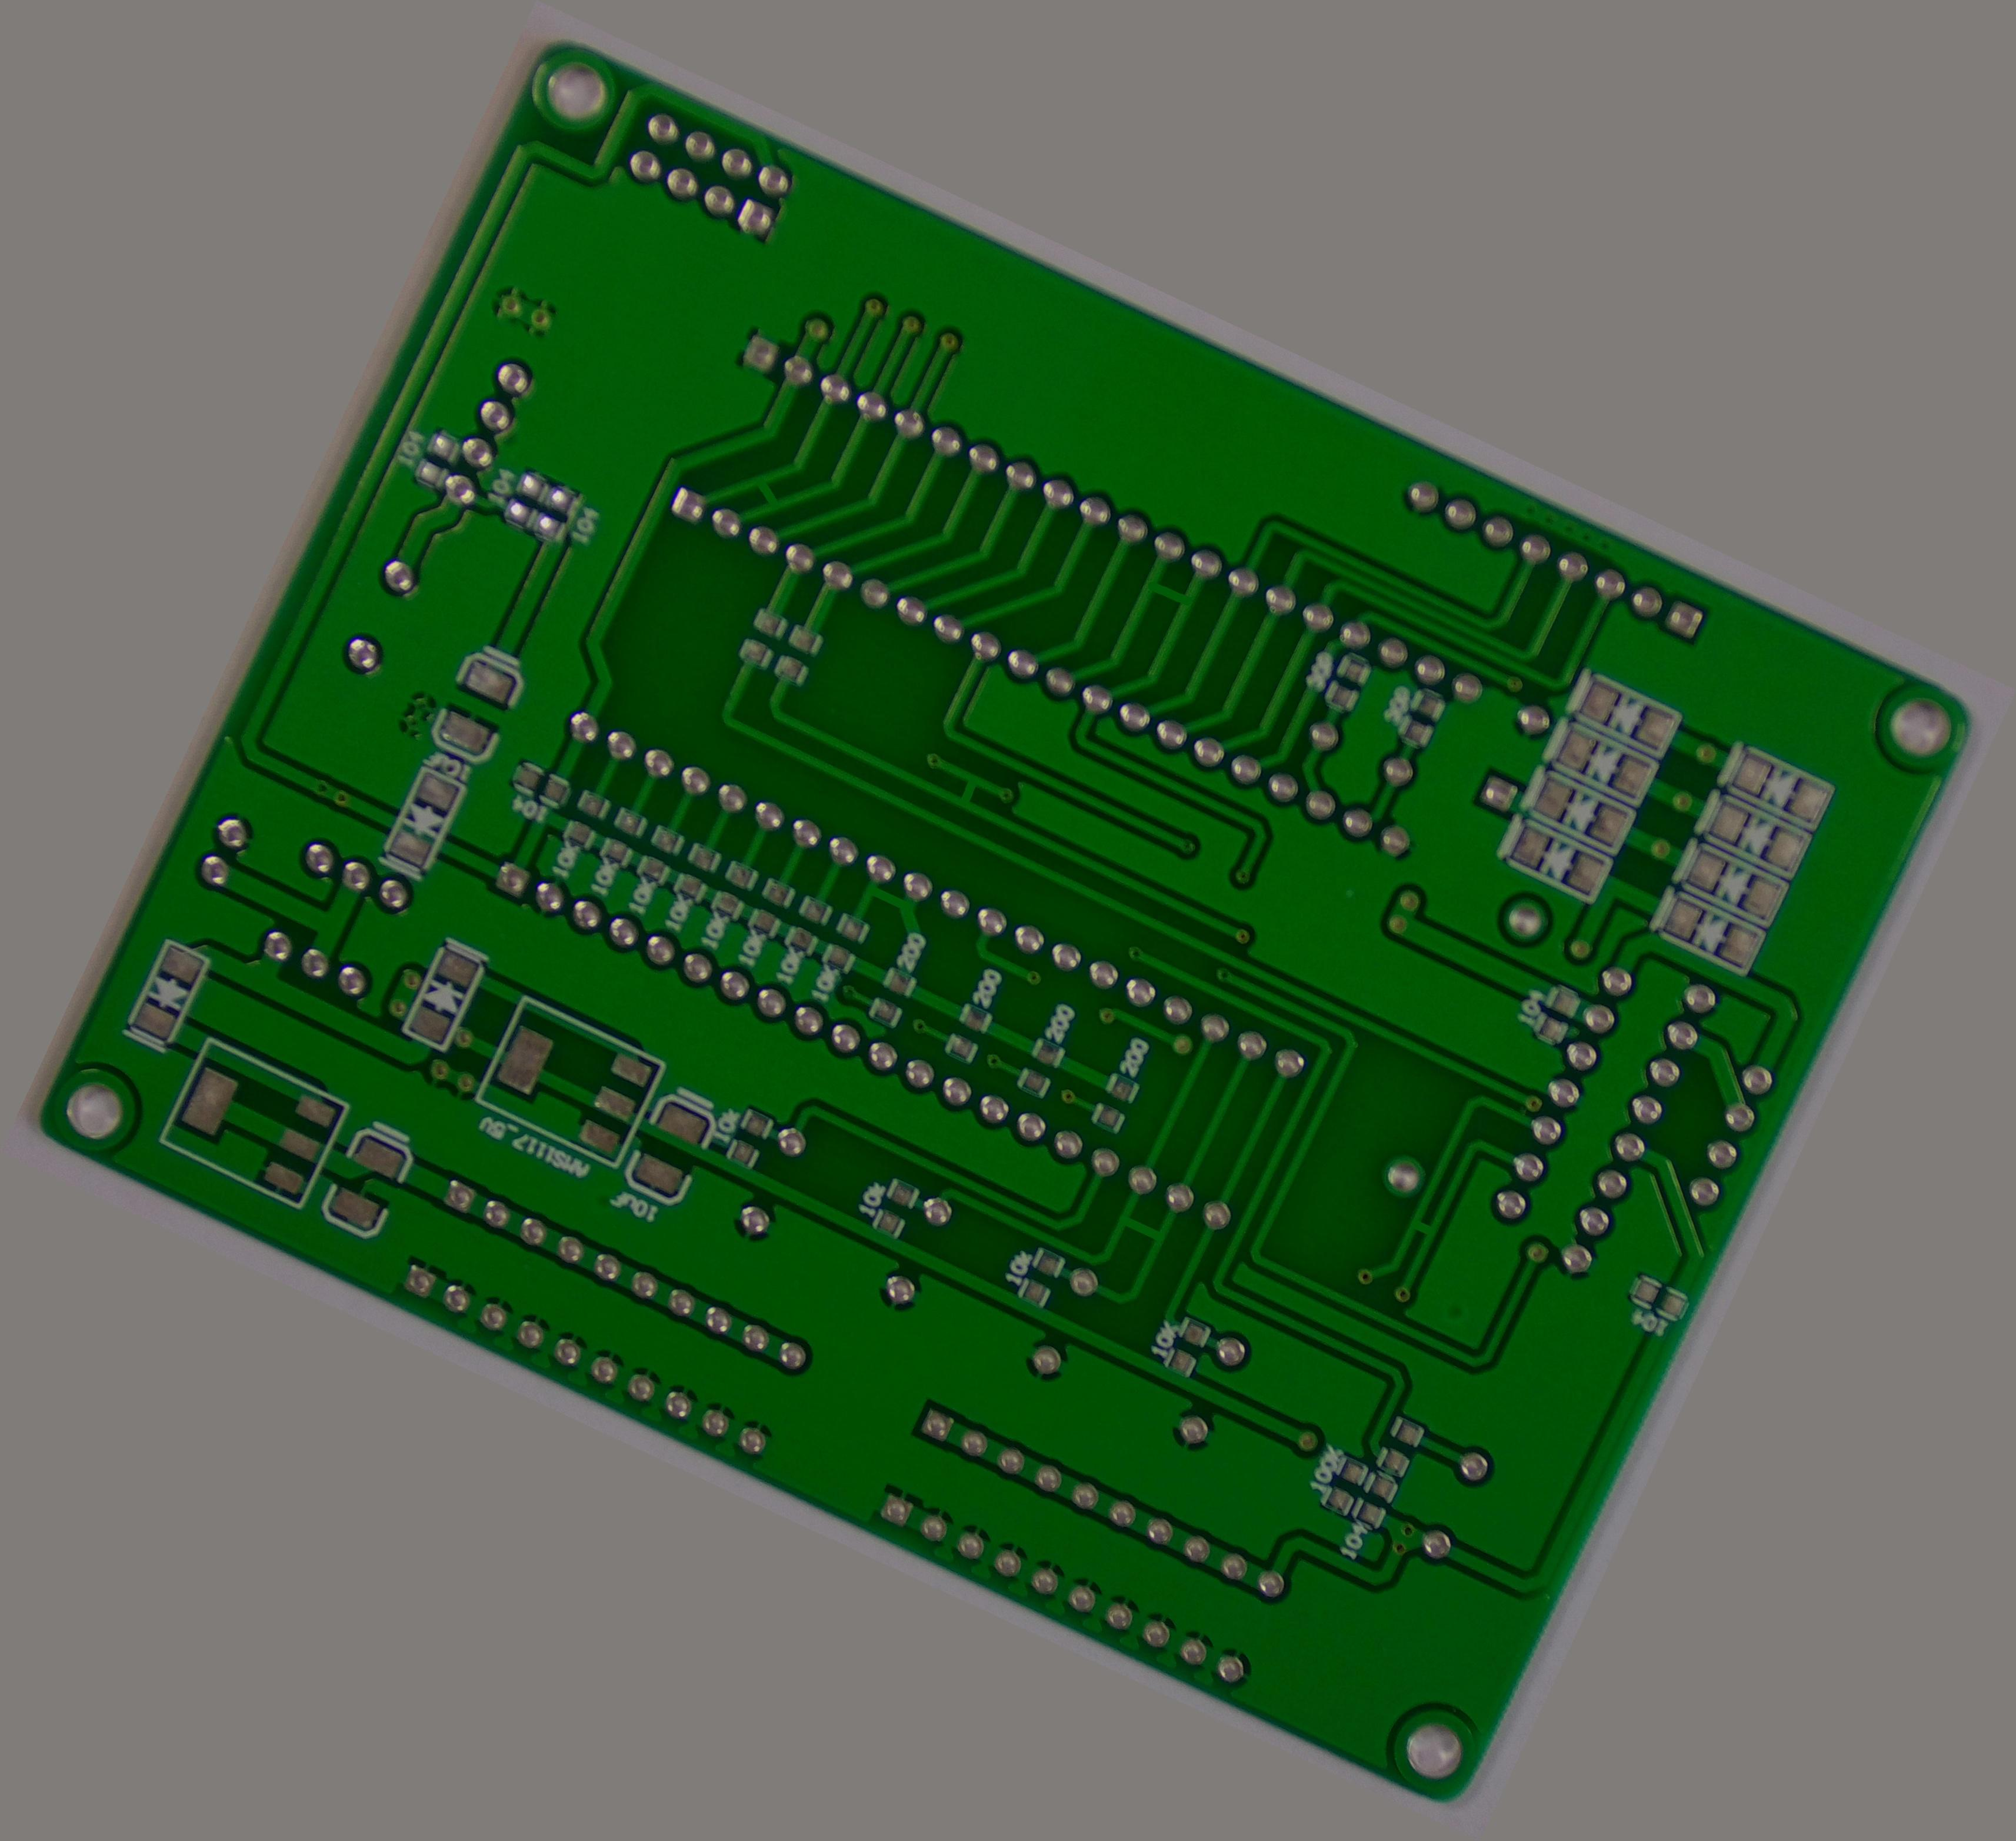short: (1124, 557, 1210, 632), (850, 859, 932, 929), (1105, 1202, 1180, 1265), (734, 466, 799, 527), (1394, 1203, 1447, 1253)
